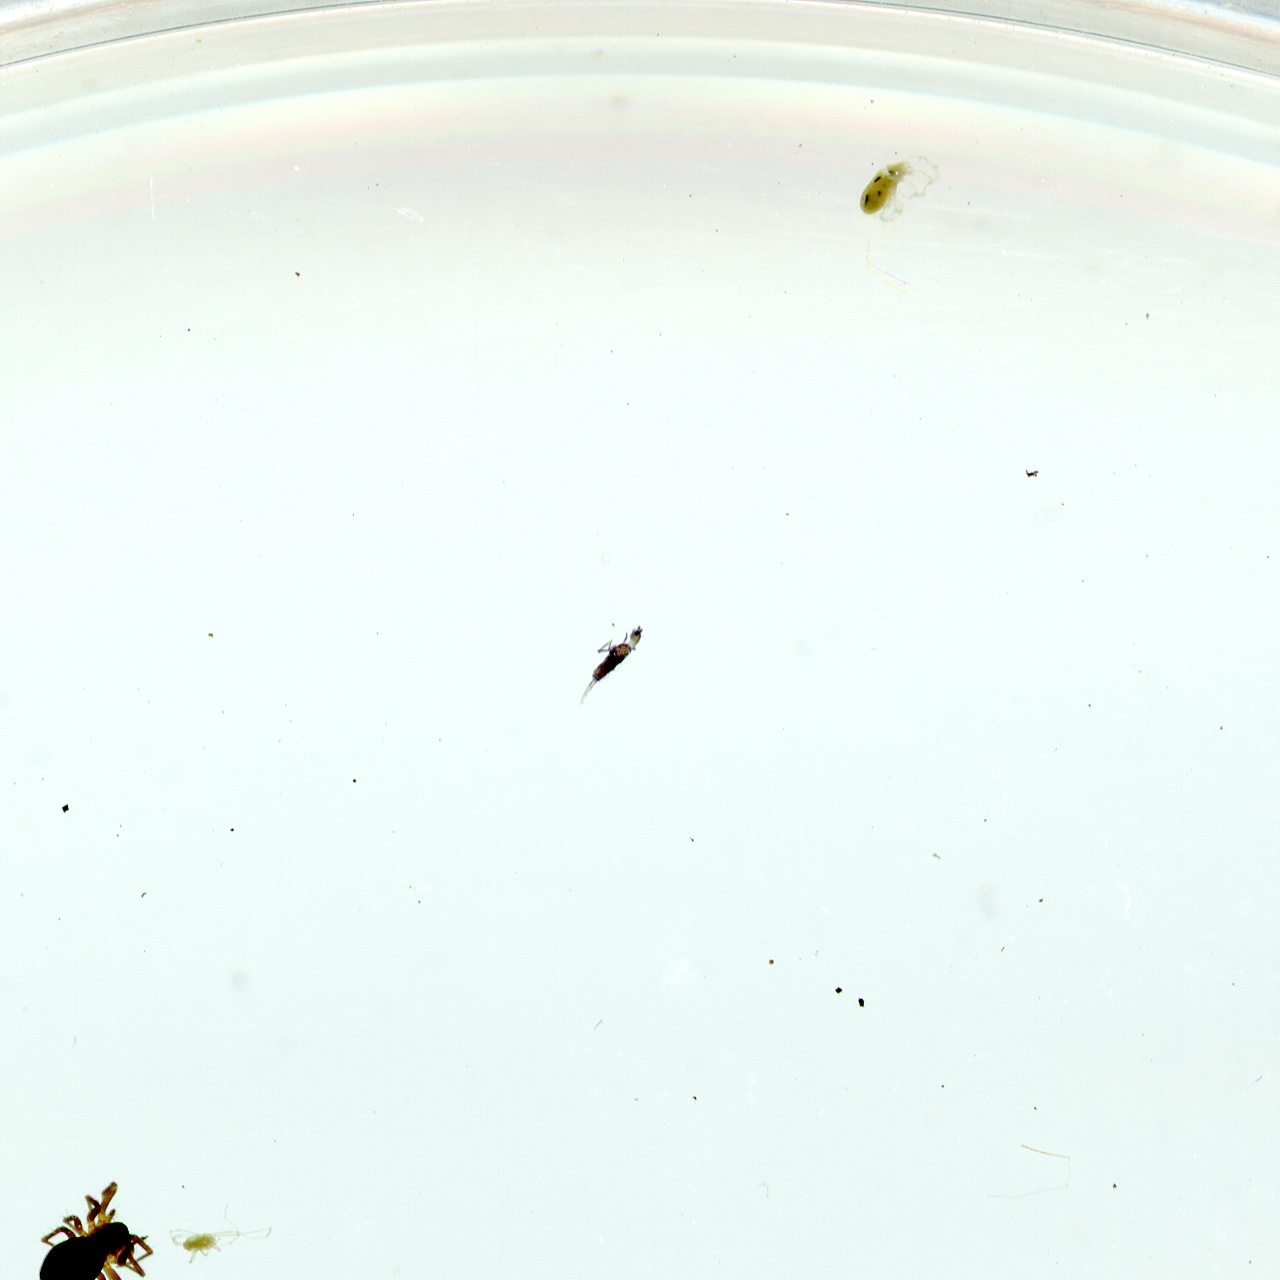arthropod: (34, 1180, 156, 1280), (845, 132, 946, 244), (560, 608, 651, 716), (166, 1200, 275, 1267)
